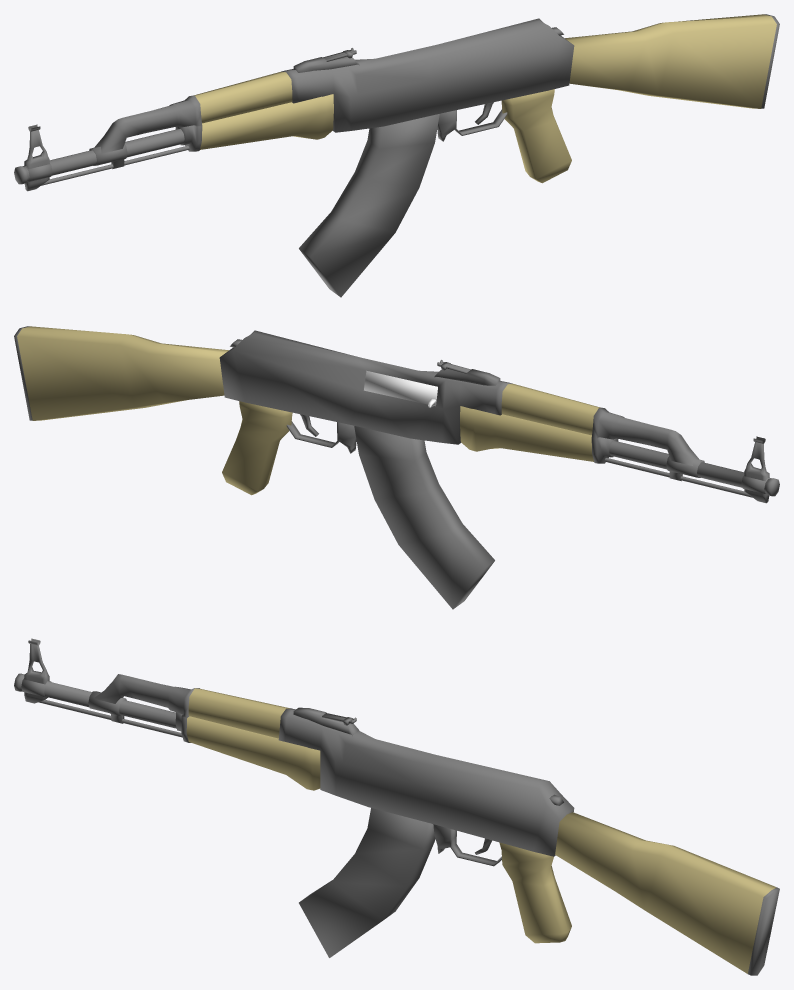
The picture shows the model from 3 angles, top to bottom: view 1: azimuth 30°, elevation 25°; view 2: azimuth 150°, elevation 25°; view 3: azimuth 330°, elevation 25°; orthographic projection.
Visible parts, largest first — view 1: Cube; view 2: Cube; view 3: Cube.
Part boxes in pixels (x1,y1,x2,y2): Cube: (14,14,779,297); Cube: (14,326,779,609); Cube: (14,638,779,975).
Bounding box in the file's own units: 9.4 × 2.86 × 0.4418.
